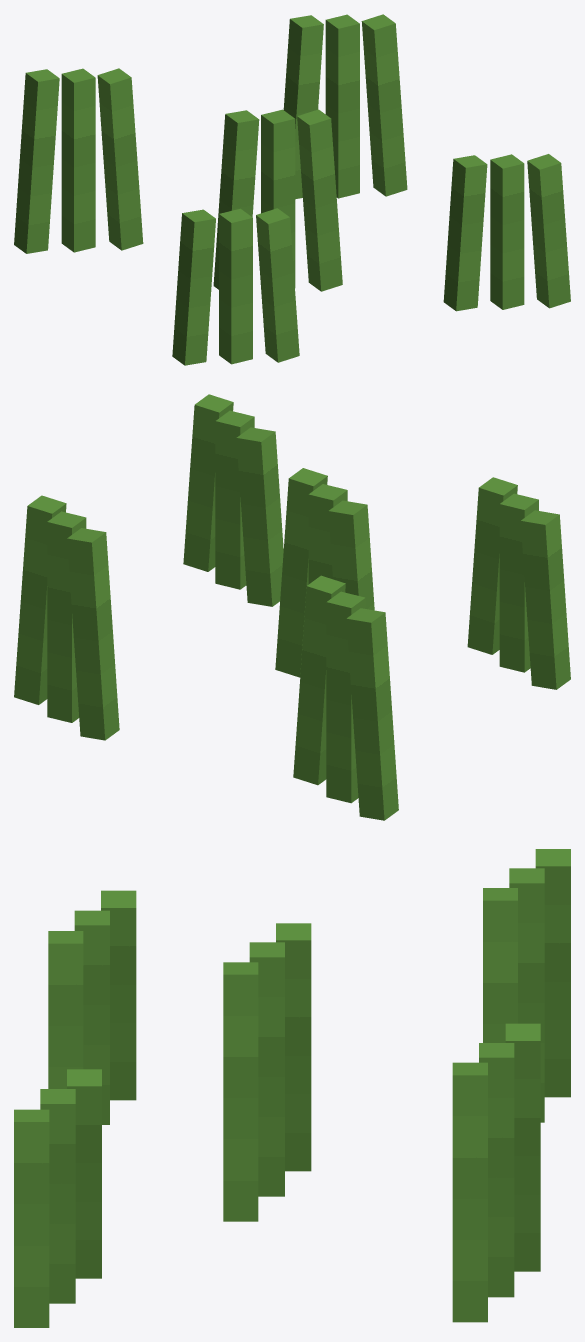
File: crop_ble_1.glb
3 renders of one model, top to bottom at view 1: azimuth 30°, elevation 25°; view 2: azimuth 150°, elevation 25°; view 3: azimuth 270°, elevation 25°, orthographic. The views are drawn at different scales.
Parts seen in each view (by area): view 1: Crop; view 2: Crop; view 3: Crop.
Part boxes in pixels (bbox=[...]): Crop: bbox=[14, 14, 570, 365]; Crop: bbox=[14, 394, 570, 820]; Crop: bbox=[14, 849, 570, 1327].
Size of the model in its own units: 0.6655 by 0.3022 by 0.6323.
Materials: 1 (1 with a texture image).
